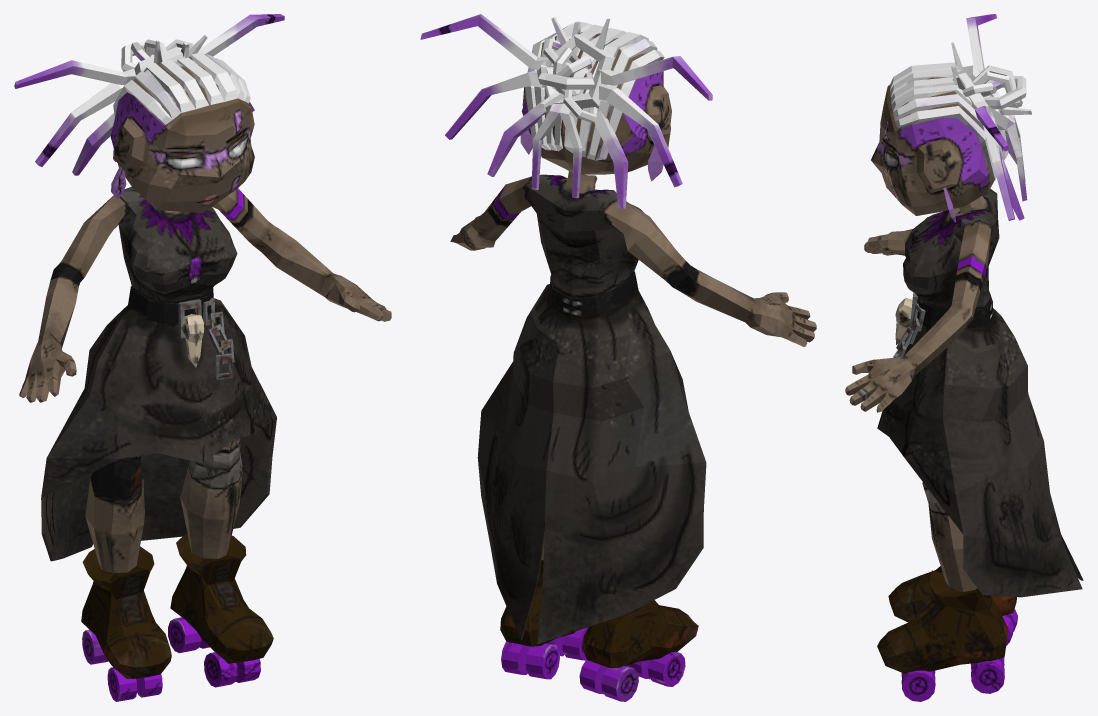
File: bruja_000228.obj
The picture shows the model from 3 angles, left to right: view 1: azimuth 30°, elevation 25°; view 2: azimuth 150°, elevation 25°; view 3: azimuth 270°, elevation 25°; orthographic projection. The views are drawn at different scales.
Visible parts, largest first — view 1: Bruja_Plane.001; view 2: Bruja_Plane.001; view 3: Bruja_Plane.001.
Part boxes in pixels (x1,y1,x2,y2): Bruja_Plane.001: (14, 14, 391, 701); Bruja_Plane.001: (420, 14, 816, 701); Bruja_Plane.001: (845, 14, 1083, 701).
Size of the model in its own units: 9.62 by 16.68 by 5.79.
